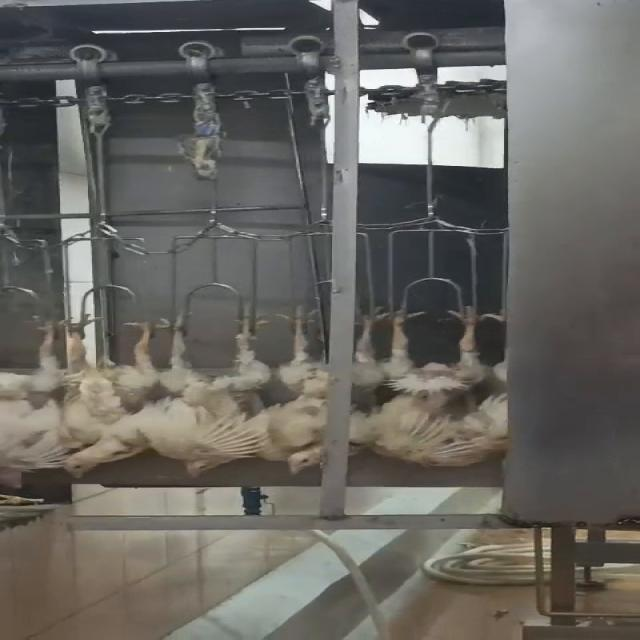chicken: (62, 306, 195, 481), (382, 302, 515, 474), (261, 300, 392, 474), (155, 294, 277, 480), (0, 311, 85, 492)
